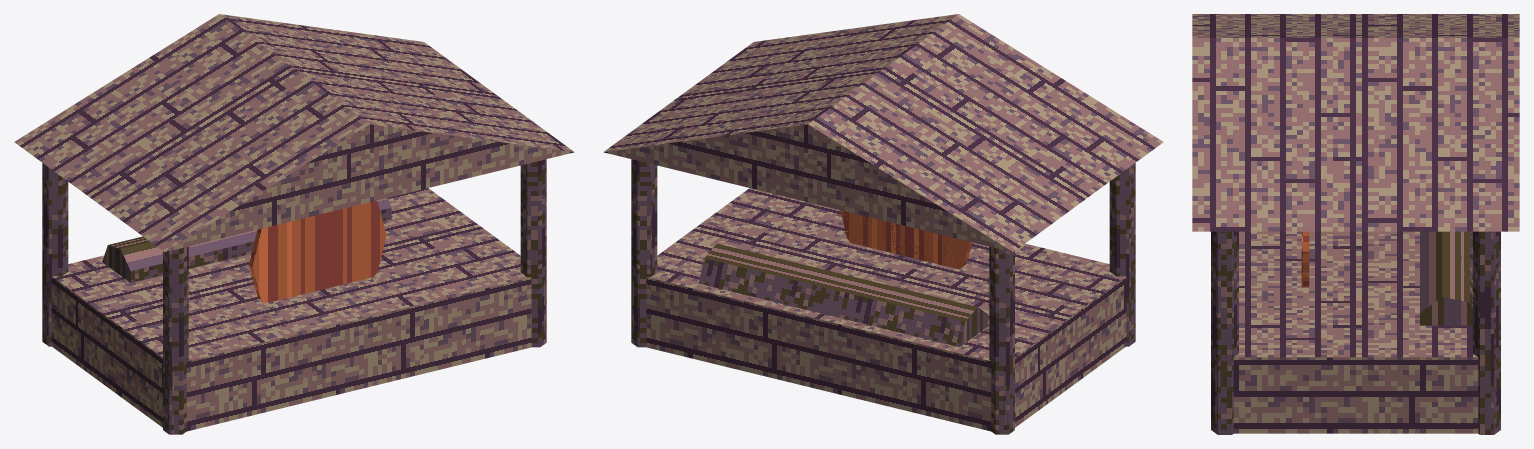
File: a02_serracao.glb
3 renders of one model, left to right at view 1: azimuth 30°, elevation 25°; view 2: azimuth 150°, elevation 25°; view 3: azimuth 270°, elevation 25°, orthographic. The views are drawn at different scales.
Parts seen in each view (by area): view 1: a02_serracao; view 2: a02_serracao; view 3: a02_serracao.
Boxes of the visible parts, <box> form: a02_serracao: <box>14,14,574,434</box>; a02_serracao: <box>603,14,1163,434</box>; a02_serracao: <box>1192,14,1519,434</box>.
Size of the model in its own units: 5.5 by 3.5 by 3.5.
3 materials, 3 textured.
